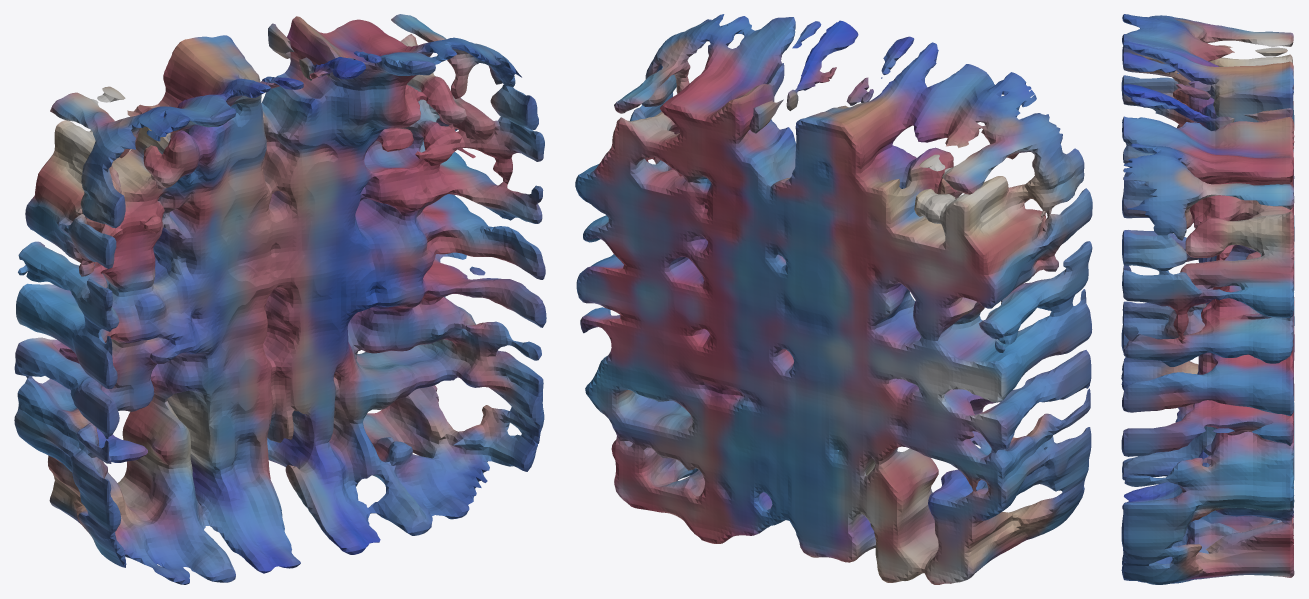
Rendered from add_a_blue_sofa.0.glb.
3 views of the same model, side by side, from view 1: azimuth 30°, elevation 25°; view 2: azimuth 150°, elevation 25°; view 3: azimuth 270°, elevation 25° (orthographic). The views are drawn at different scales.
Parts seen in each view (by area): view 1: add_a_blue_sofa.0.obj; view 2: add_a_blue_sofa.0.obj; view 3: add_a_blue_sofa.0.obj.
Boxes of the visible parts, x1,y1,x2,y2 form: add_a_blue_sofa.0.obj: [14, 14, 546, 584]; add_a_blue_sofa.0.obj: [575, 14, 1092, 584]; add_a_blue_sofa.0.obj: [1121, 14, 1294, 584].
Size of the model in its own units: 1.79 by 1.89 by 0.6464.
